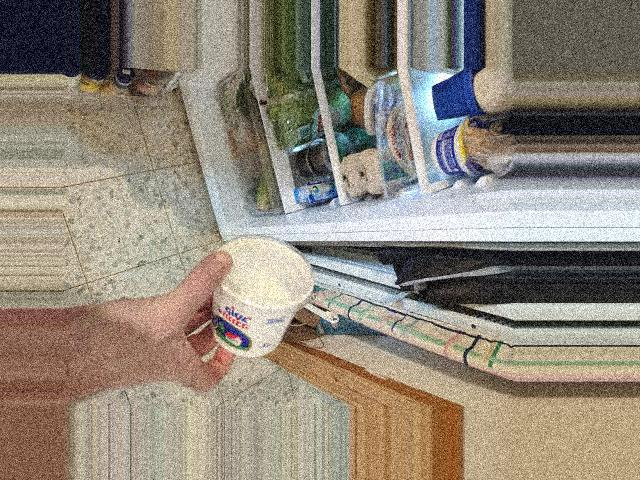cotage: (211, 243, 326, 352)
